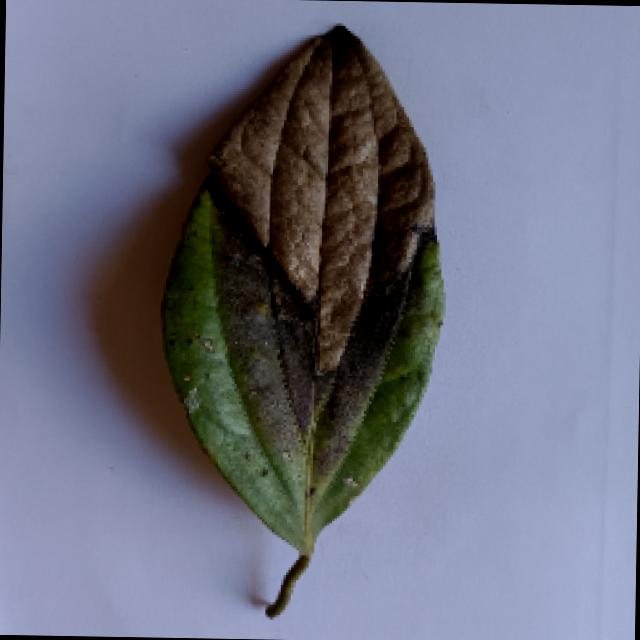footrot: (150, 22, 448, 609)
